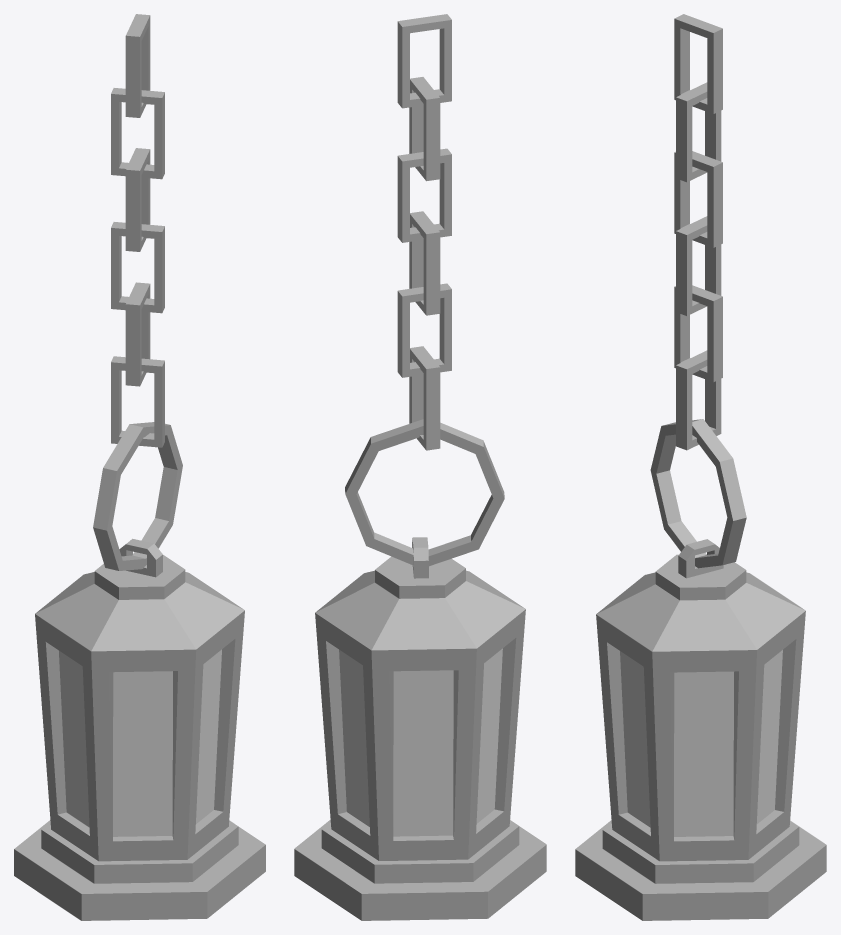
Rendered from lantern.hanging.fbx.
3 renders of one model, left to right at view 1: azimuth 30°, elevation 25°; view 2: azimuth 150°, elevation 25°; view 3: azimuth 270°, elevation 25°, orthographic.
Parts seen in each view (by area): view 1: lantern.hanging; view 2: lantern.hanging; view 3: lantern.hanging.
Part boxes in pixels (<box>): lantern.hanging: <box>14,14,265,920</box>; lantern.hanging: <box>294,14,546,920</box>; lantern.hanging: <box>575,14,826,920</box>.
Bounding box in the file's own units: 0.1766 × 0.7423 × 0.1992.
